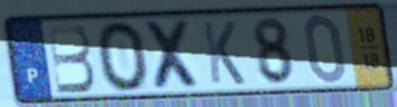0: (301, 12, 348, 87)
8: (250, 16, 297, 87)
B: (45, 21, 99, 96)
K: (199, 19, 248, 87)
O: (93, 18, 152, 94)
X: (141, 18, 206, 92)
